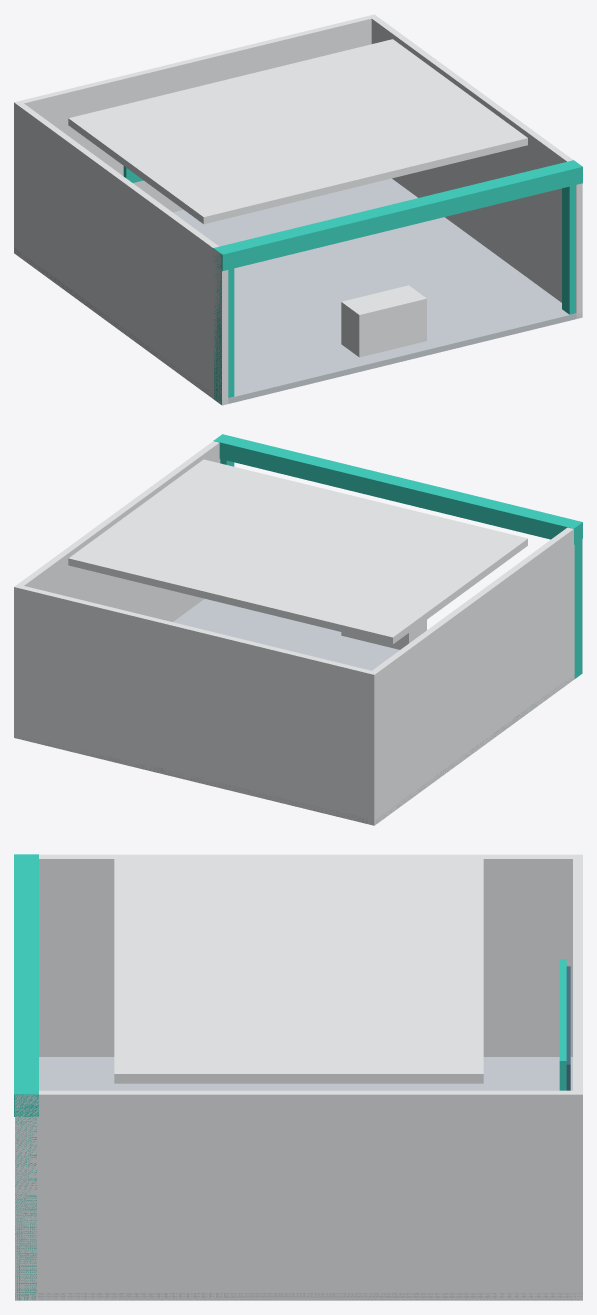
3 renders of one model, top to bottom at view 1: azimuth 30°, elevation 25°; view 2: azimuth 150°, elevation 25°; view 3: azimuth 270°, elevation 25°, orthographic. The views are drawn at different scales.
Parts seen in each view (by area): view 1: Exhibition Booth Concept; view 2: Exhibition Booth Concept; view 3: Exhibition Booth Concept.
Boxes of the visible parts, bbox=[...] form: Exhibition Booth Concept: bbox=[14, 14, 582, 405]; Exhibition Booth Concept: bbox=[14, 434, 582, 825]; Exhibition Booth Concept: bbox=[14, 854, 582, 1300].
Bounding box in the file's own units: 8 × 3.34 × 8.01.
